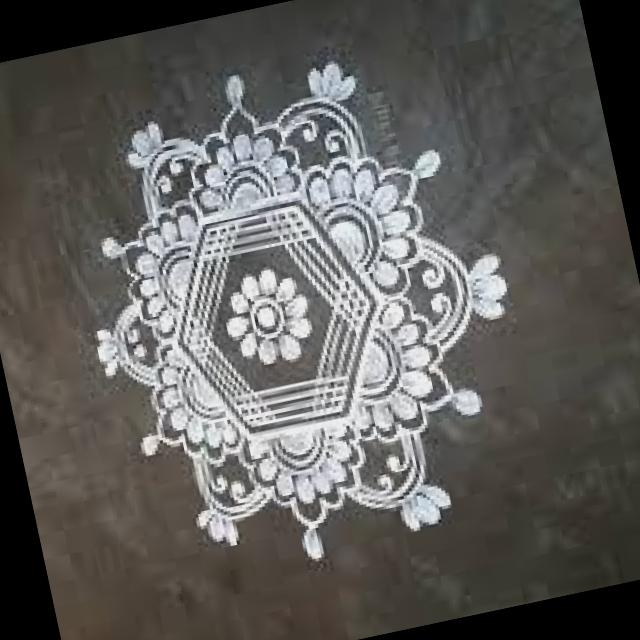rangoli: (31, 21, 554, 600)
